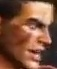kevin: (2, 0, 51, 68)
